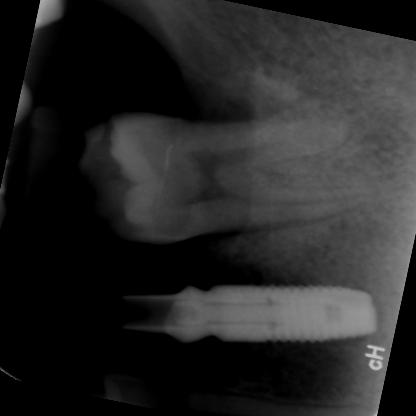ITI: (193, 245, 382, 366)
